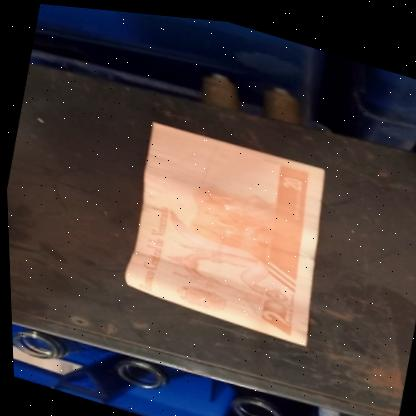vef_back: (113, 110, 341, 343)
